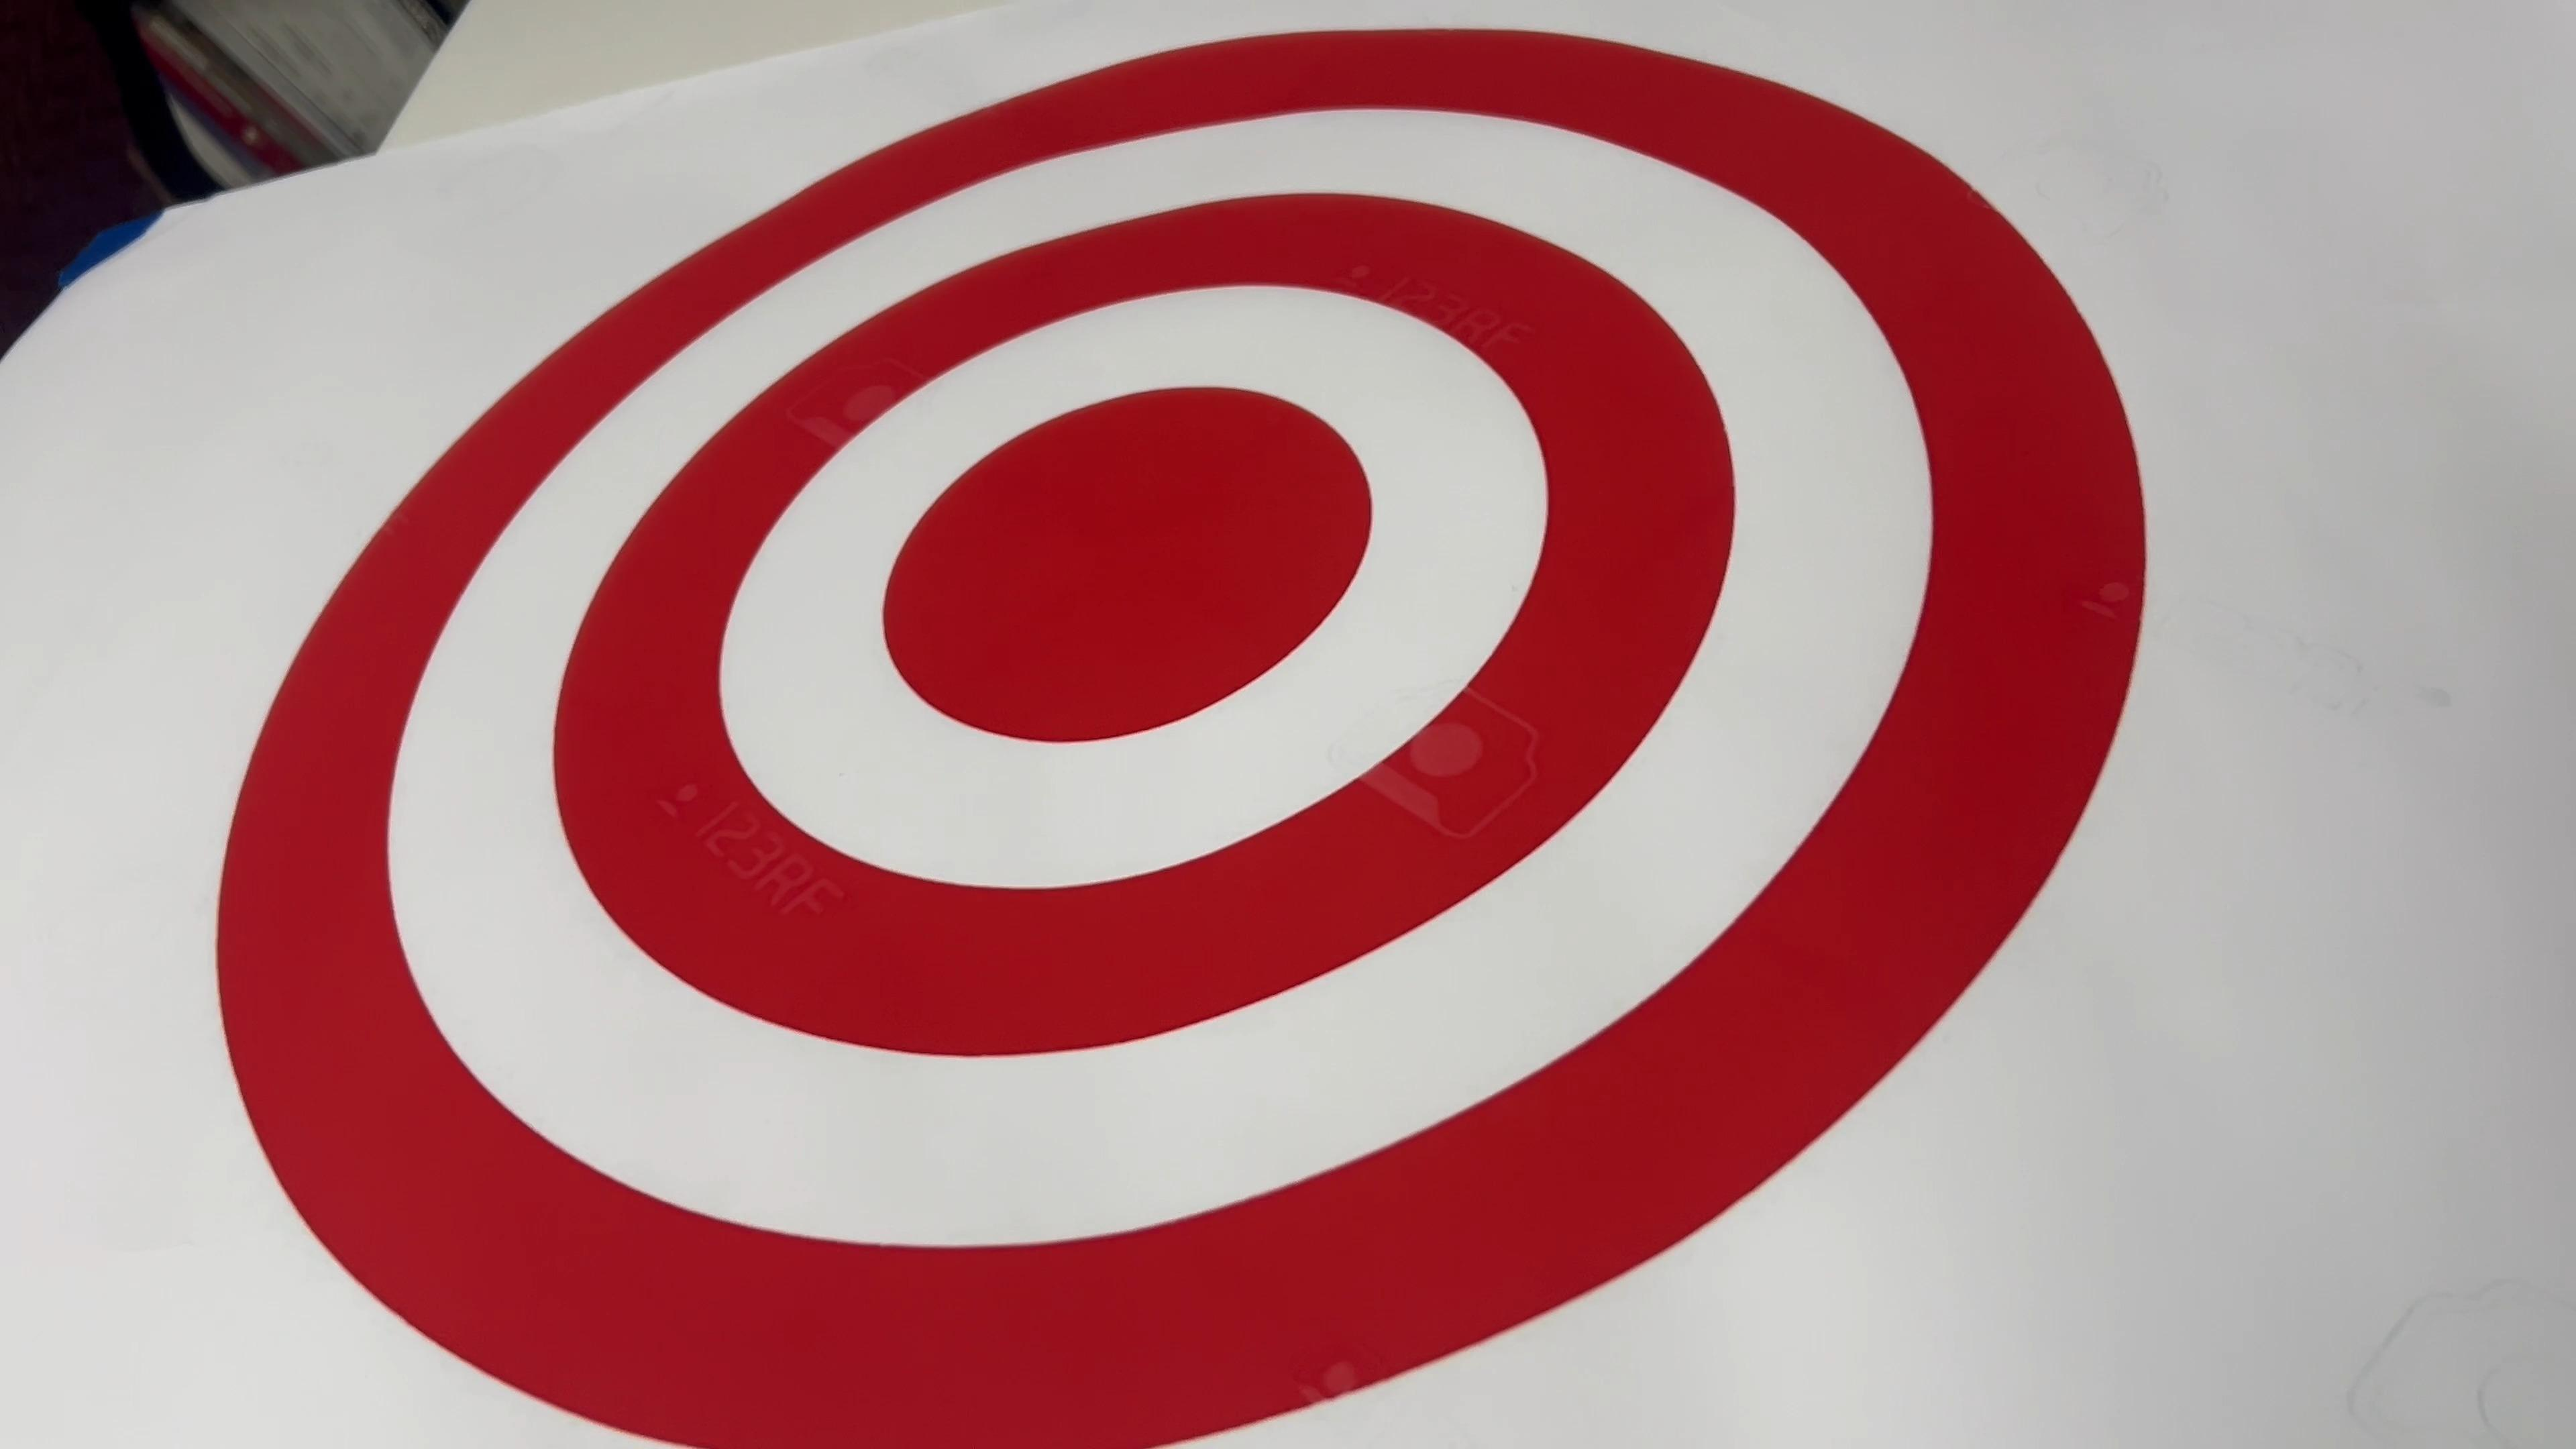target_red: (129, 14, 2233, 1449)
